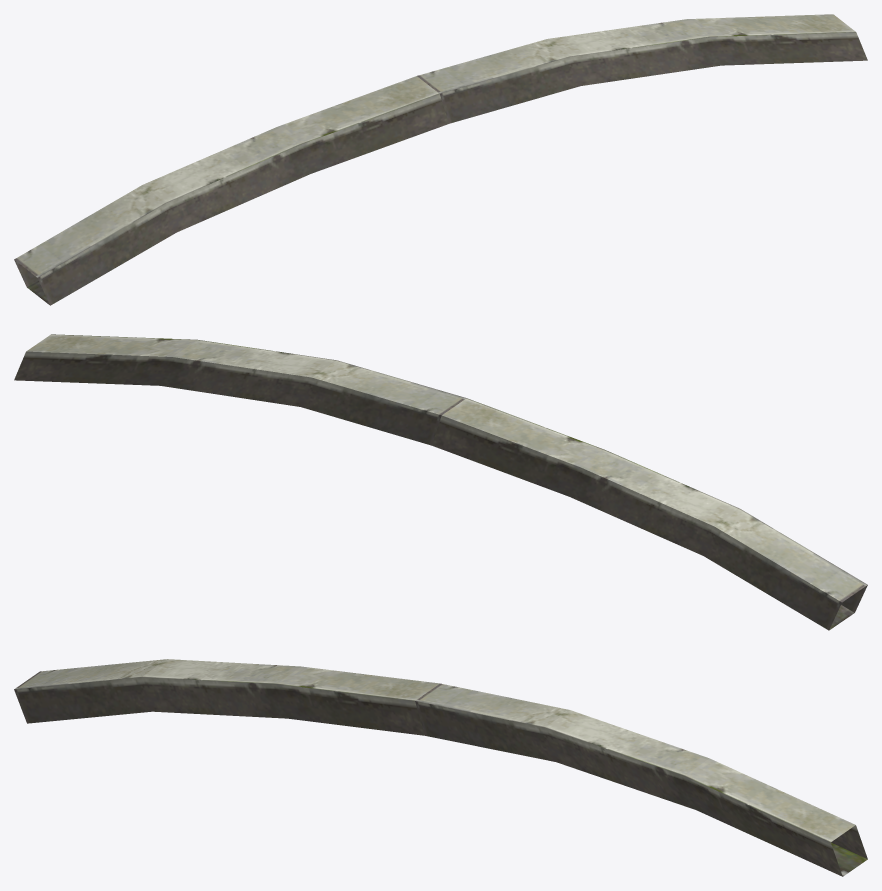
Rendered from xs__Item_louti_4.FBX.
3 renders of one model, top to bottom at view 1: azimuth 30°, elevation 25°; view 2: azimuth 150°, elevation 25°; view 3: azimuth 330°, elevation 25°, orthographic.
Parts seen in each view (by area): view 1: xs__Item_louti_4; view 2: xs__Item_louti_4; view 3: xs__Item_louti_4.
Boxes of the visible parts, x1=… form: xs__Item_louti_4: x1=14, y1=14, x2=867, y2=305; xs__Item_louti_4: x1=14, y1=334, x2=867, y2=630; xs__Item_louti_4: x1=14, y1=659, x2=867, y2=876.
Size of the model in its own units: 645 by 92.14 by 36.84.
